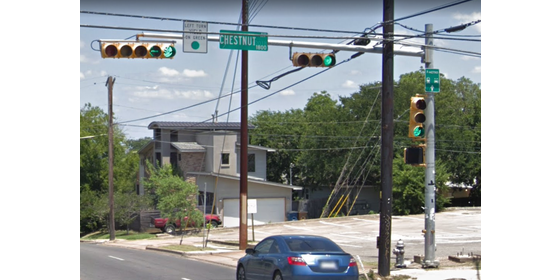green bus sign: (423, 66, 443, 94)
left turn yield on green sign: (182, 16, 212, 54)
street name sign: (218, 28, 273, 54)
